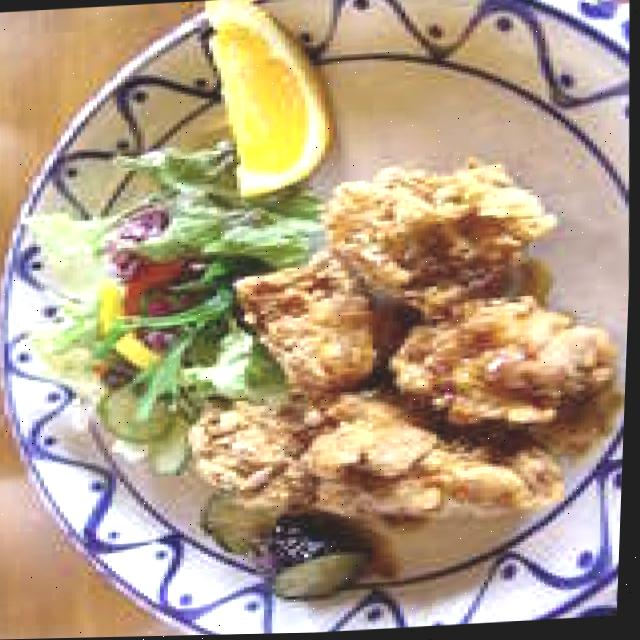鸡肉料理 含炸鸡: (153, 141, 636, 577)
